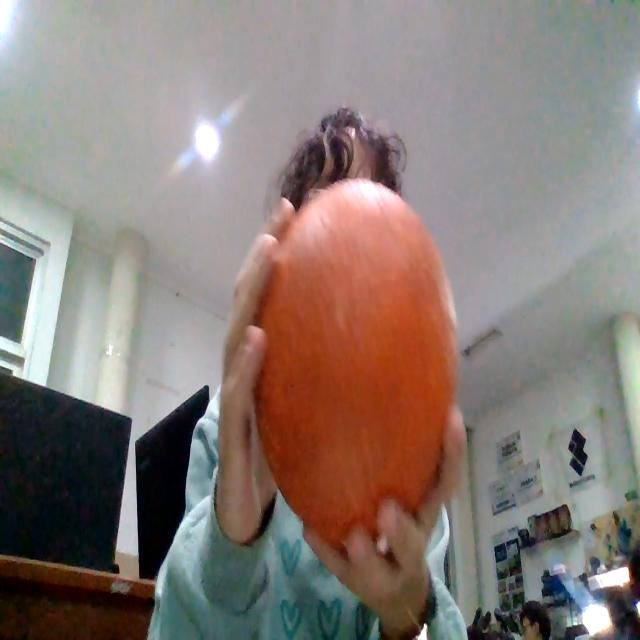ball: (262, 183, 454, 542)
